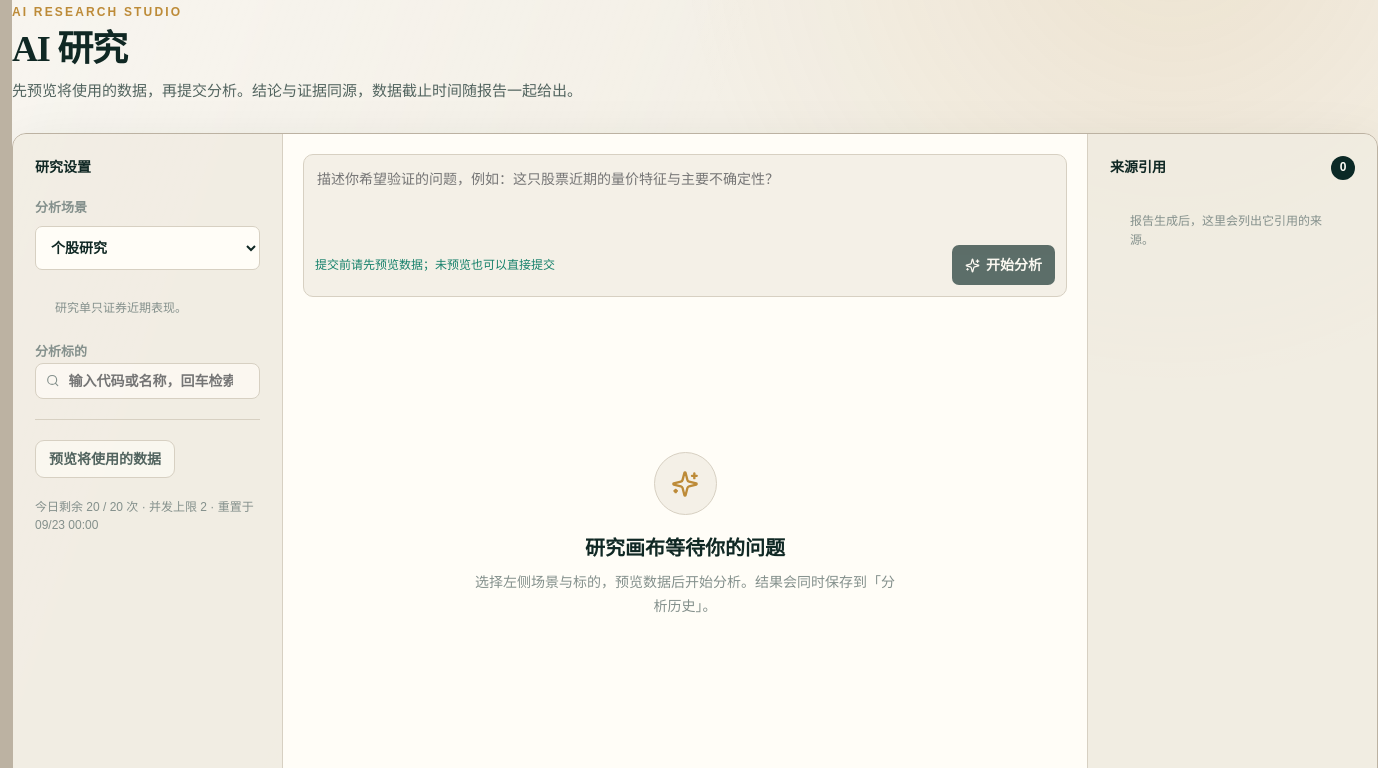
Scenario: AI 研究工作台 › 预览展示数据截止与数据缺口（缺口与报告的受限原因同源）
The width and height of the screenshot is (1378, 768).
Type "600519" into the search field labelled "分析标的" at (158,381), box [66,369,249,393]
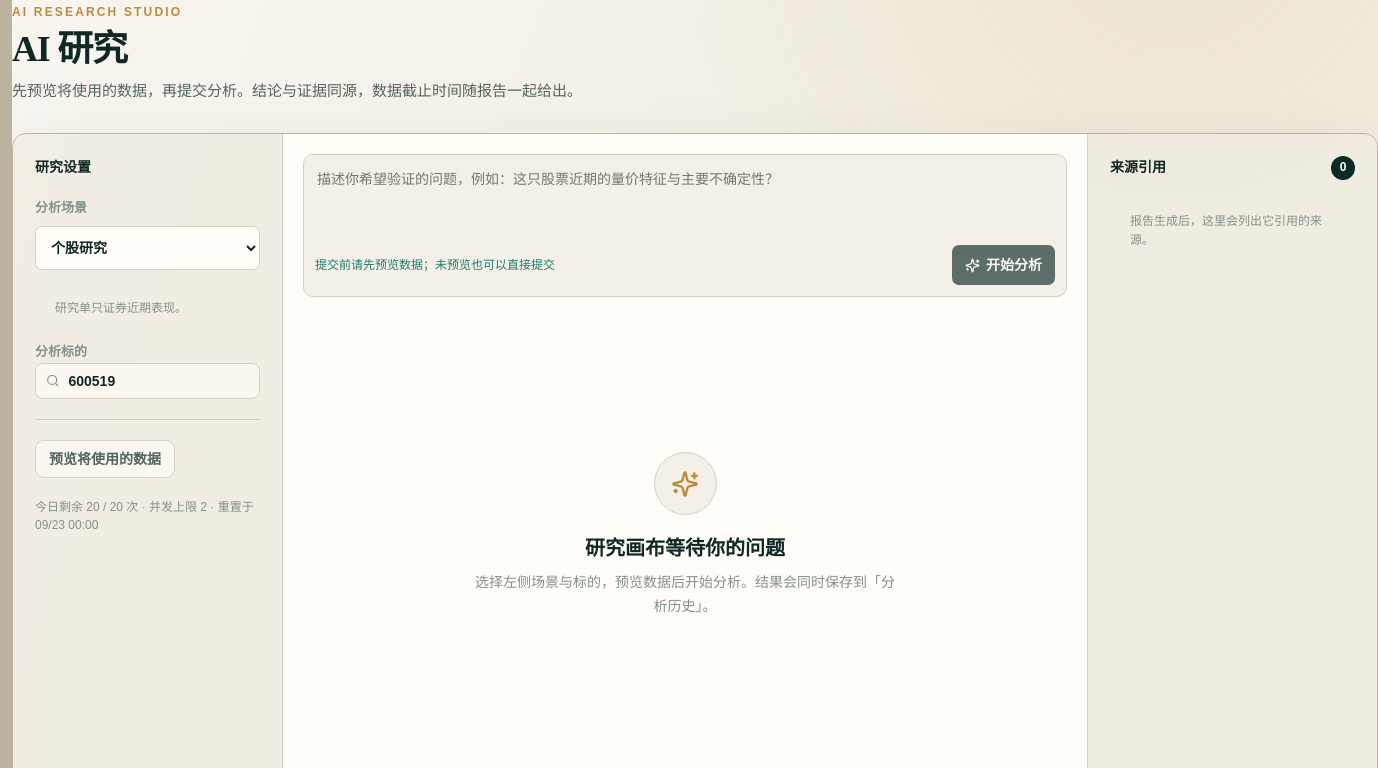
Press Enter in the search field labelled "分析标的", box [66,369,249,393]
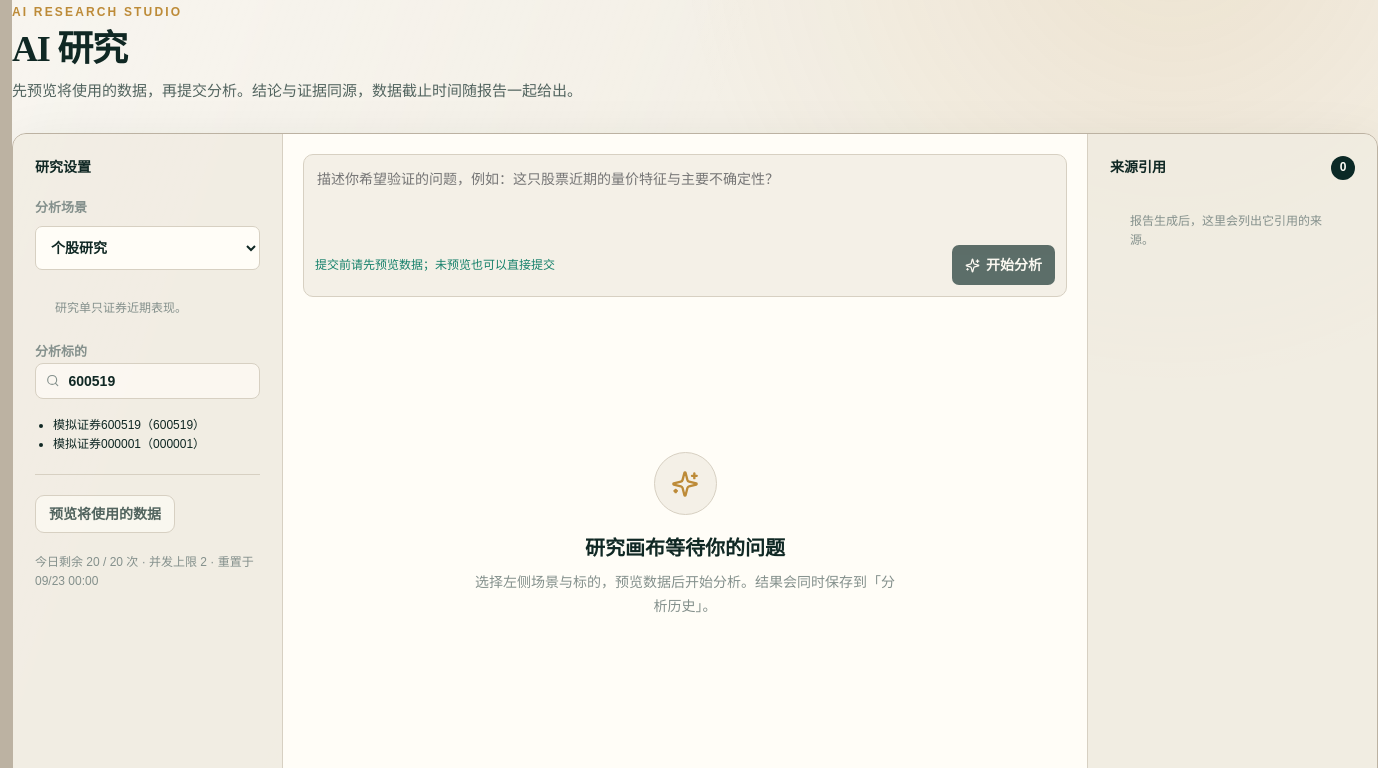
Click the button "模拟证券600519（600519）" at (129,425), box [53,416,205,435]
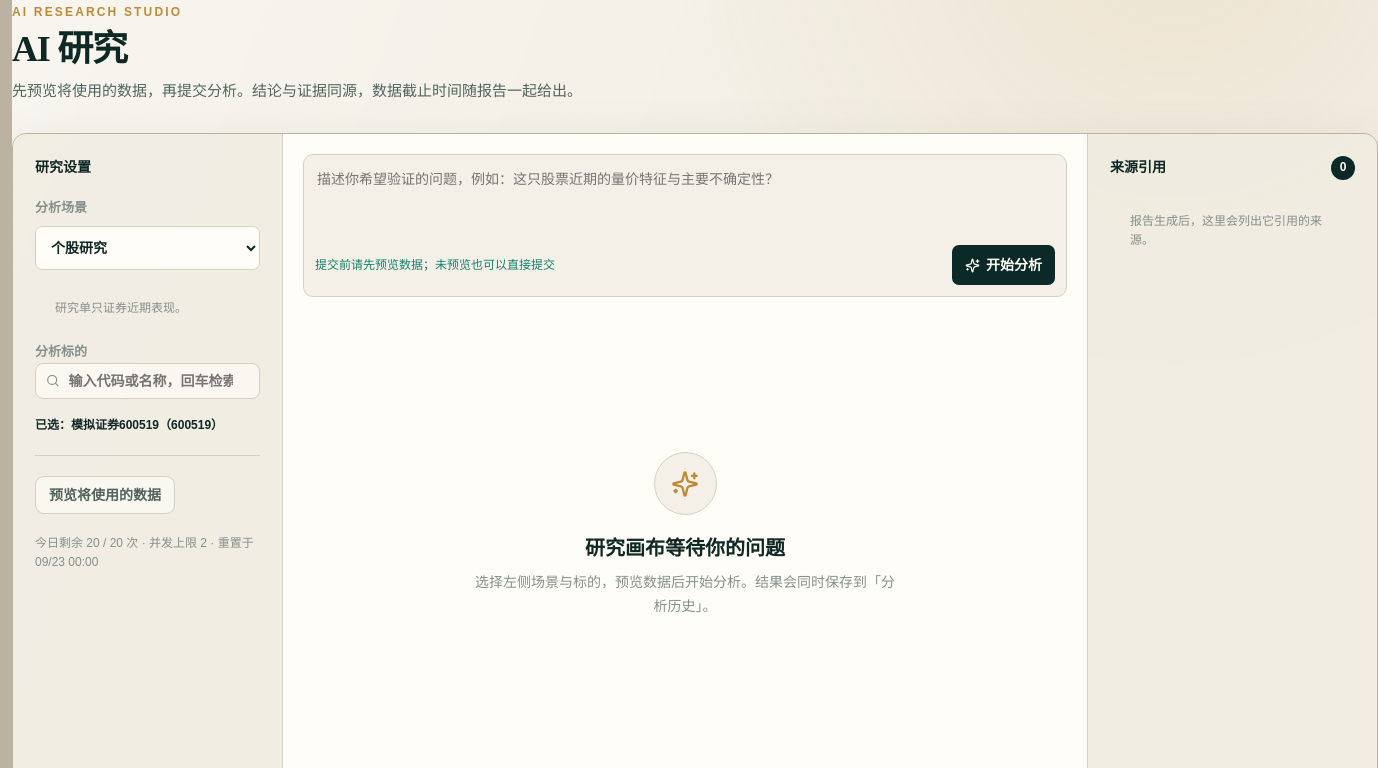
Click the button with class "secondary-button" at (105,495), box [35,476,175,514]
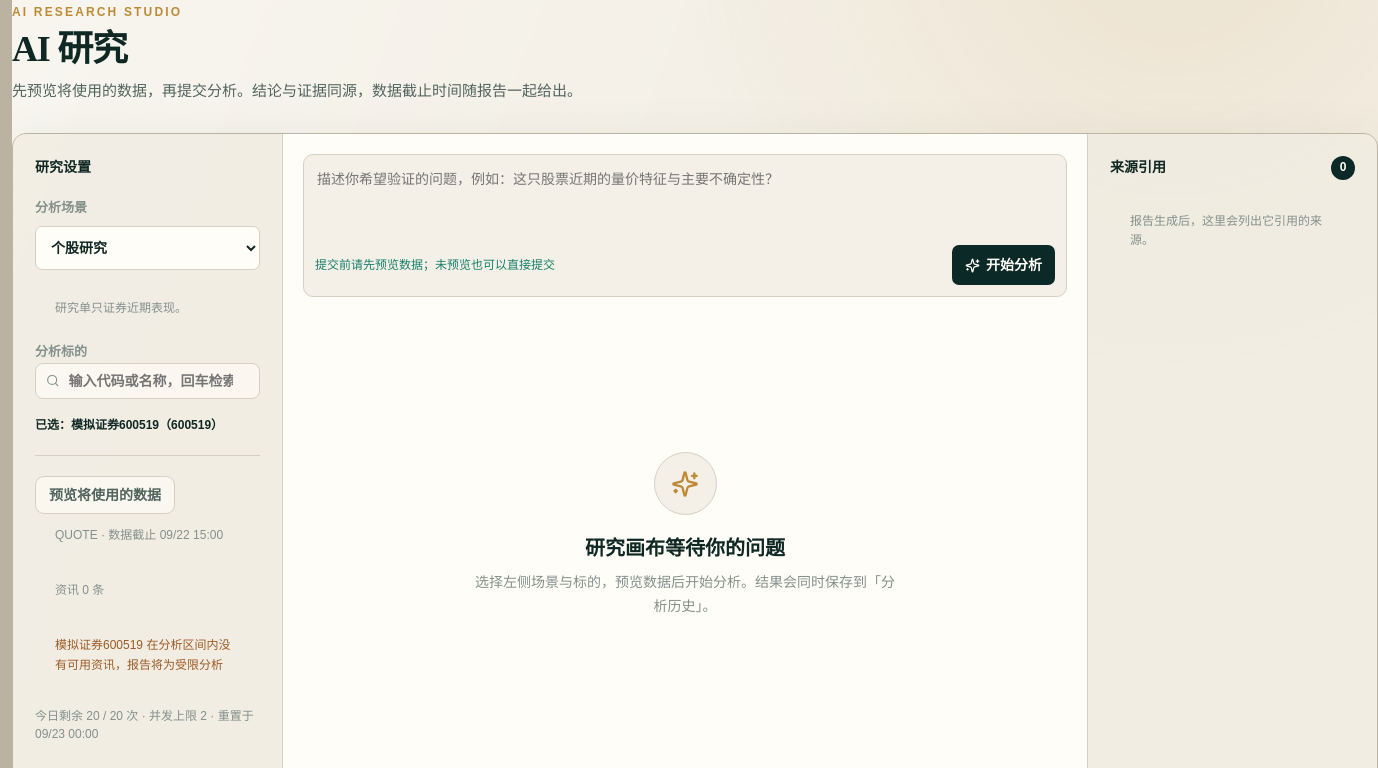
Result: the text "QUOTE · 数据截止" is shown at [55,528,223,542]
Result: the text "没有可用资讯" is shown at [55,638,230,672]
